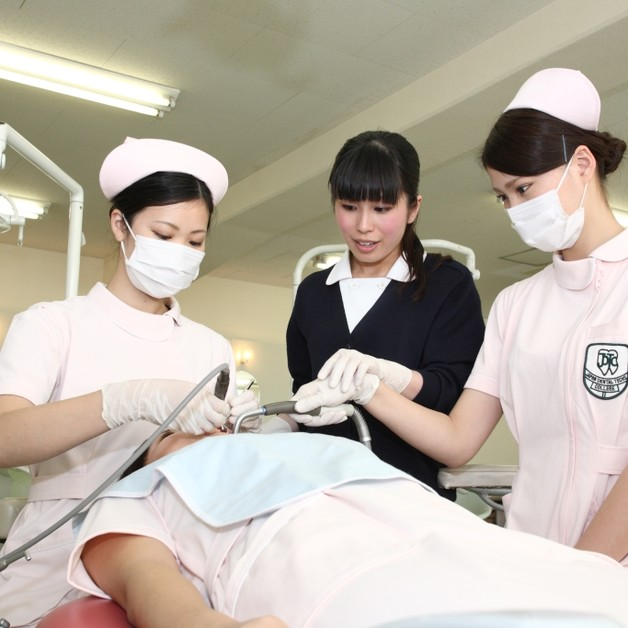mask: (125, 233, 206, 302), (506, 191, 586, 251)
